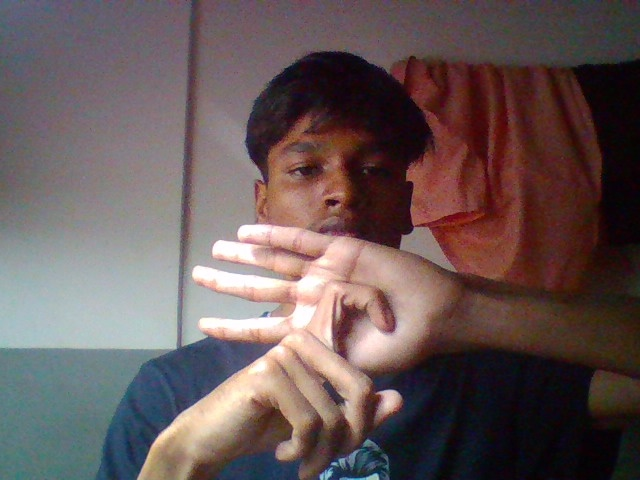R: (161, 208, 503, 480)
